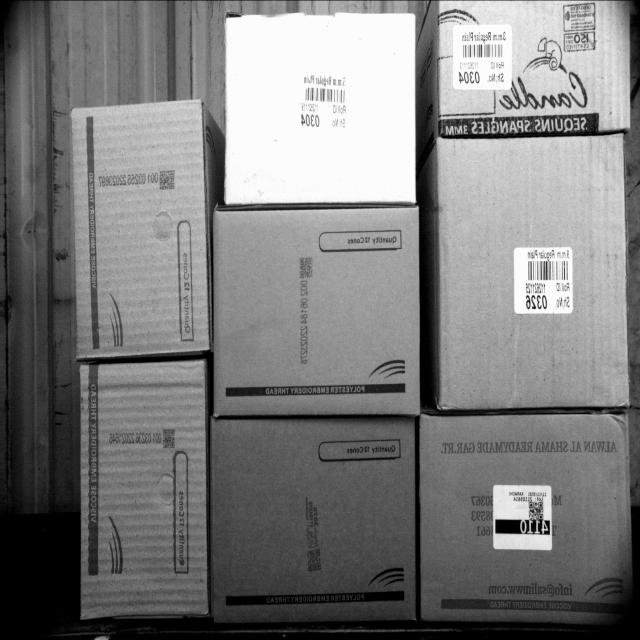cardboxes: (442, 135, 624, 406), (211, 417, 417, 627), (422, 415, 630, 618), (214, 208, 416, 409), (227, 16, 416, 206), (76, 103, 208, 357), (78, 361, 208, 618), (435, 0, 628, 135)
